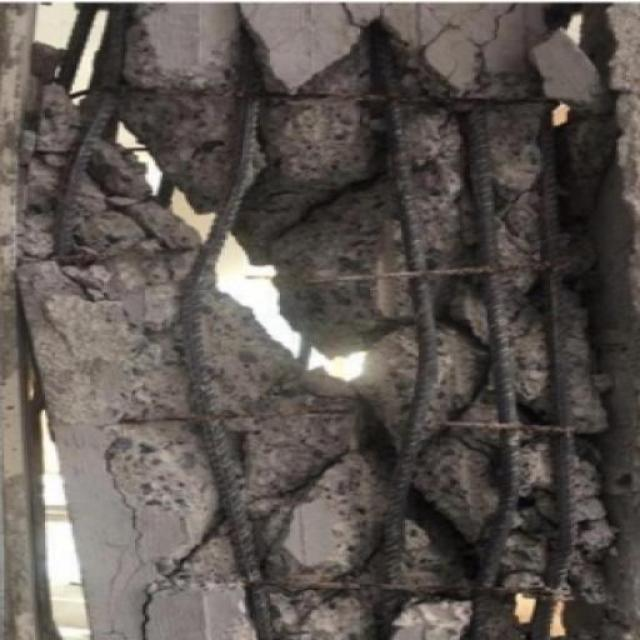D0w0: (18, 5, 638, 639)
